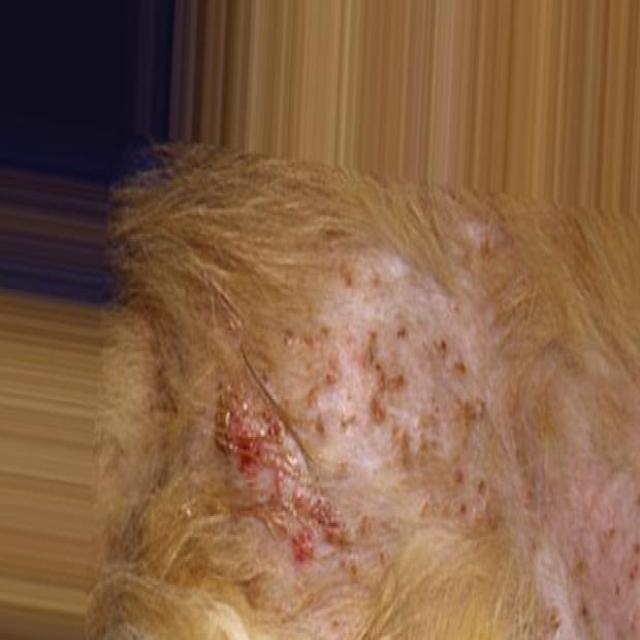di ung bo chet: (183, 222, 640, 640)
